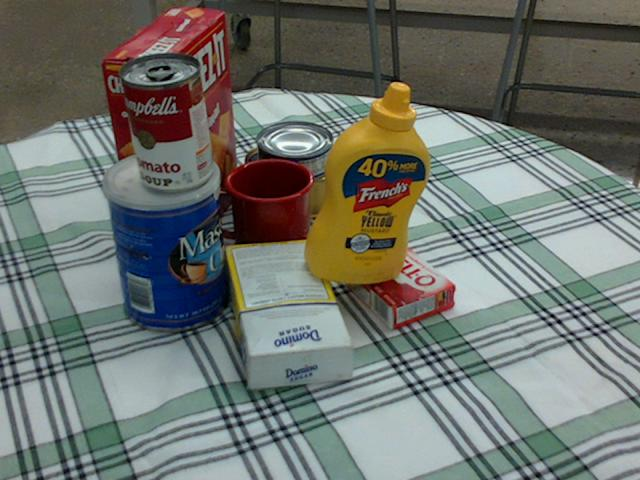cracker_box: (100, 9, 237, 258)
gelatin_box: (344, 244, 454, 330)
master_chef_can: (101, 149, 229, 332)
mug: (201, 157, 313, 262)
mustard_bottle: (304, 81, 429, 283)
potted_meat_can: (241, 140, 337, 218)
sugar_box: (224, 239, 356, 387)
tomato_soup_can: (119, 52, 211, 190)
tuna_fish_can: (255, 121, 332, 182)
